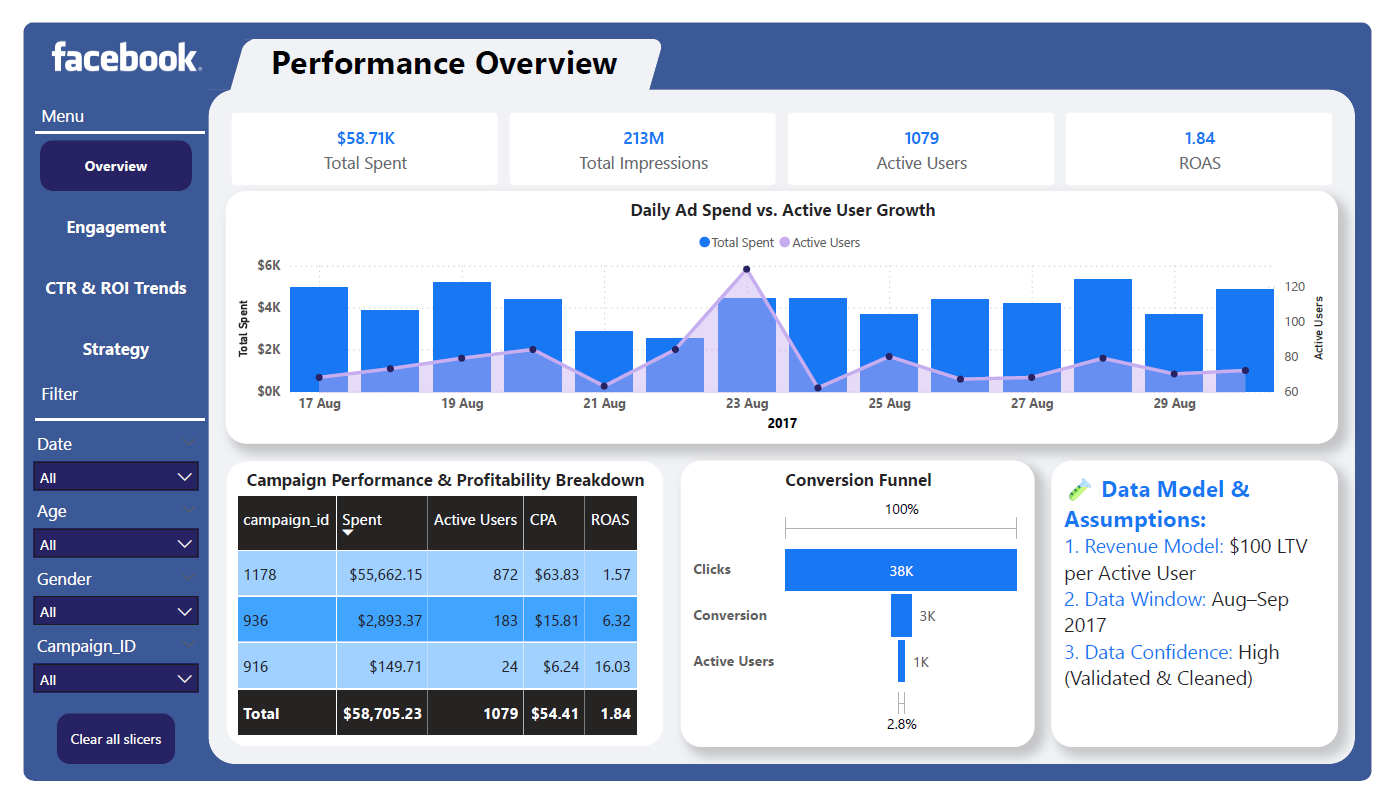

Layout of this report page (visuals, bound fields, positions):
{"tool":"powerbi","page":{"name":"Overview","canvas":[1280,720],"ordinal":0},"visuals":[{"type":"shape","title":"bg","box":[0,0,1280,720],"z":0},{"type":"shape","box":[192,16,416,64],"z":500,"group":"g1"},{"type":"group","id":"g1","title":"Group 1","box":[176,16,1088,688],"z":1000},{"type":"shape","box":[176,64,1088,640],"z":1000,"group":"g1"},{"type":"textbox","box":[12,72.8,144,32],"z":2000},{"type":"shape","box":[12,96.8,160,16],"z":3000},{"type":"pageNavigator","box":[16,112,144,224],"z":4000},{"type":"textbox","box":[12,336.8,144,32],"z":5000},{"type":"shape","box":[12,368.8,160,16],"z":6000},{"type":"image","box":[8,8,176,48],"z":7000},{"type":"slicer","fields":{"Values":["Facebook Ads.reporting_start"]},"box":[0,384,176,64],"z":8000},{"type":"actionButton","box":[32,656,112,48],"z":9000},{"type":"slicer","fields":{"Values":["Facebook Ads.gender"]},"box":[0,512,176,64],"z":11000},{"type":"slicer","fields":{"Values":["Facebook Ads.campaign_id"]},"box":[0,576,176,64],"z":12000},{"type":"slicer","fields":{"Values":["Facebook Ads.age"]},"box":[0,448,176,64],"z":13000},{"type":"cardVisual","fields":{"Data":["_Key Measures.Total Spend","_Key Measures.Total Impressions","_Key Measures.Total Approved Conversions","_Key Measures.ROAS"]},"box":[192,80,1056,80],"z":14000},{"type":"lineClusteredColumnComboChart","title":"Daily Ad Spend vs. Active User Growth","fields":{"Category":["Facebook Ads.reporting_start"],"Y":["_Key Measures.Total Spend"],"Y2":["_Key Measures.Total Approved Conversions"]},"box":[192,160,1056,240],"z":15000},{"type":"funnel","title":"Conversion Funnel","fields":{"Y":["_Key Measures.Total Clicks","_Key Measures.Total Conversion","_Key Measures.Total Approved Conversions"]},"box":[624,416,336,272],"z":16000},{"type":"pivotTable","title":"Campaign Performance & Profitability Breakdown","fields":{"Rows":["Facebook Ads.campaign_id"],"Values":["_Key Measures.Total Spent","_Key Measures.Total Approved Conversions","_Key Measures.CPA","_Key Measures.ROAS"]},"box":[192,416,416,272],"z":17000},{"type":"textbox","box":[976,416,272,272],"z":18000}]}

Visuals, with their boxes in screenshot pixels (x1, y1, x2, y2), scaled from the page's 1280x720 canvas onto the 1395x804 screenshot:
"bg" shape: bbox=[0, 0, 1394, 803]
shape: bbox=[209, 18, 663, 89]
"Group 1" group: bbox=[192, 18, 1378, 786]
shape: bbox=[192, 71, 1378, 786]
textbox: bbox=[13, 81, 170, 117]
shape: bbox=[13, 108, 187, 126]
pageNavigator: bbox=[17, 125, 174, 375]
textbox: bbox=[13, 376, 170, 412]
shape: bbox=[13, 412, 187, 430]
image: bbox=[9, 9, 201, 63]
slicer - Facebook Ads.reporting_start: bbox=[0, 429, 192, 500]
actionButton: bbox=[35, 733, 157, 786]
slicer - Facebook Ads.gender: bbox=[0, 572, 192, 643]
slicer - Facebook Ads.campaign_id: bbox=[0, 643, 192, 715]
slicer - Facebook Ads.age: bbox=[0, 500, 192, 572]
cardVisual - _Key Measures.Total Spend x _Key Measures.Total Impressions: bbox=[209, 89, 1360, 179]
"Daily Ad Spend vs. Active User Growth" lineClusteredColumnComboChart: bbox=[209, 179, 1360, 447]
"Conversion Funnel" funnel: bbox=[680, 465, 1046, 768]
"Campaign Performance & Profitability Breakdown" pivotTable: bbox=[209, 465, 663, 768]
textbox: bbox=[1064, 465, 1360, 768]
